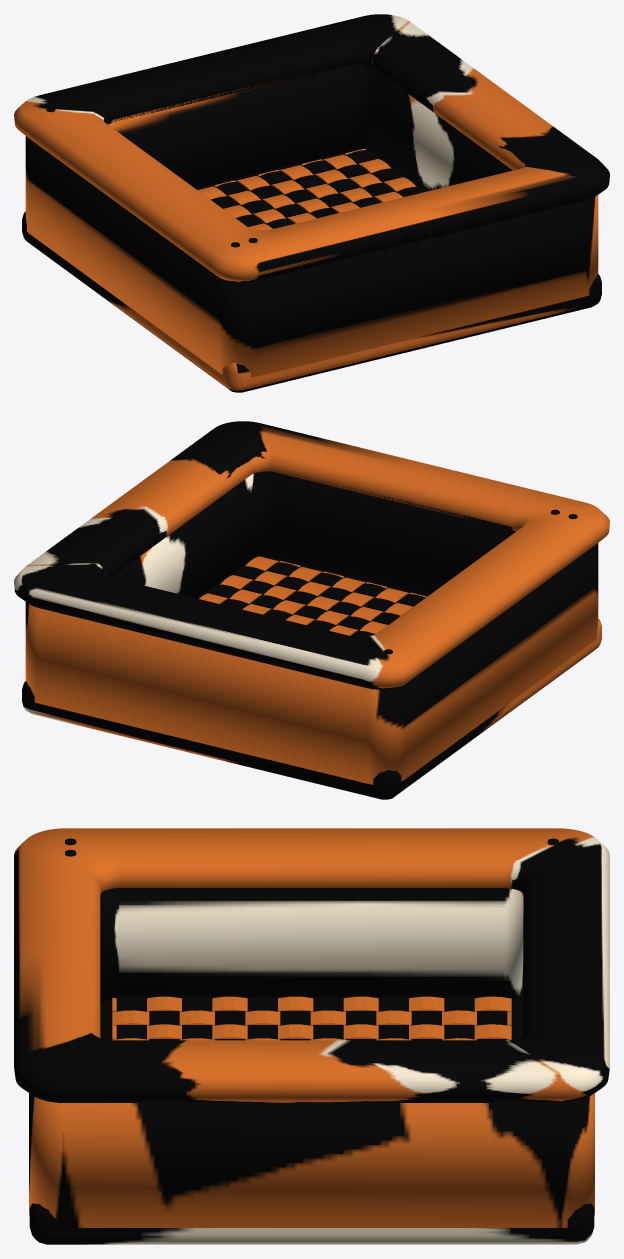
The model's file is basket_redwood.fbx.
The picture shows the model from 3 angles, top to bottom: view 1: azimuth 30°, elevation 25°; view 2: azimuth 150°, elevation 25°; view 3: azimuth 270°, elevation 25°; orthographic projection. The views are drawn at different scales.
Visible parts, largest first — view 1: basket_redwood.001; view 2: basket_redwood.001; view 3: basket_redwood.001.
Part boxes in pixels (box(x1,y1,x2,y2)): basket_redwood.001: box(14, 14, 609, 392); basket_redwood.001: box(14, 421, 609, 799); basket_redwood.001: box(14, 828, 609, 1244).
Bounding box in the file's own units: 100 × 33.85 × 100.
